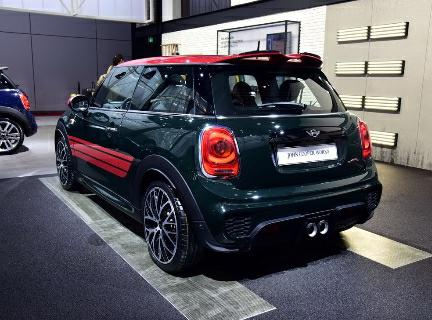MINI-JCW: (44, 52, 402, 278)
